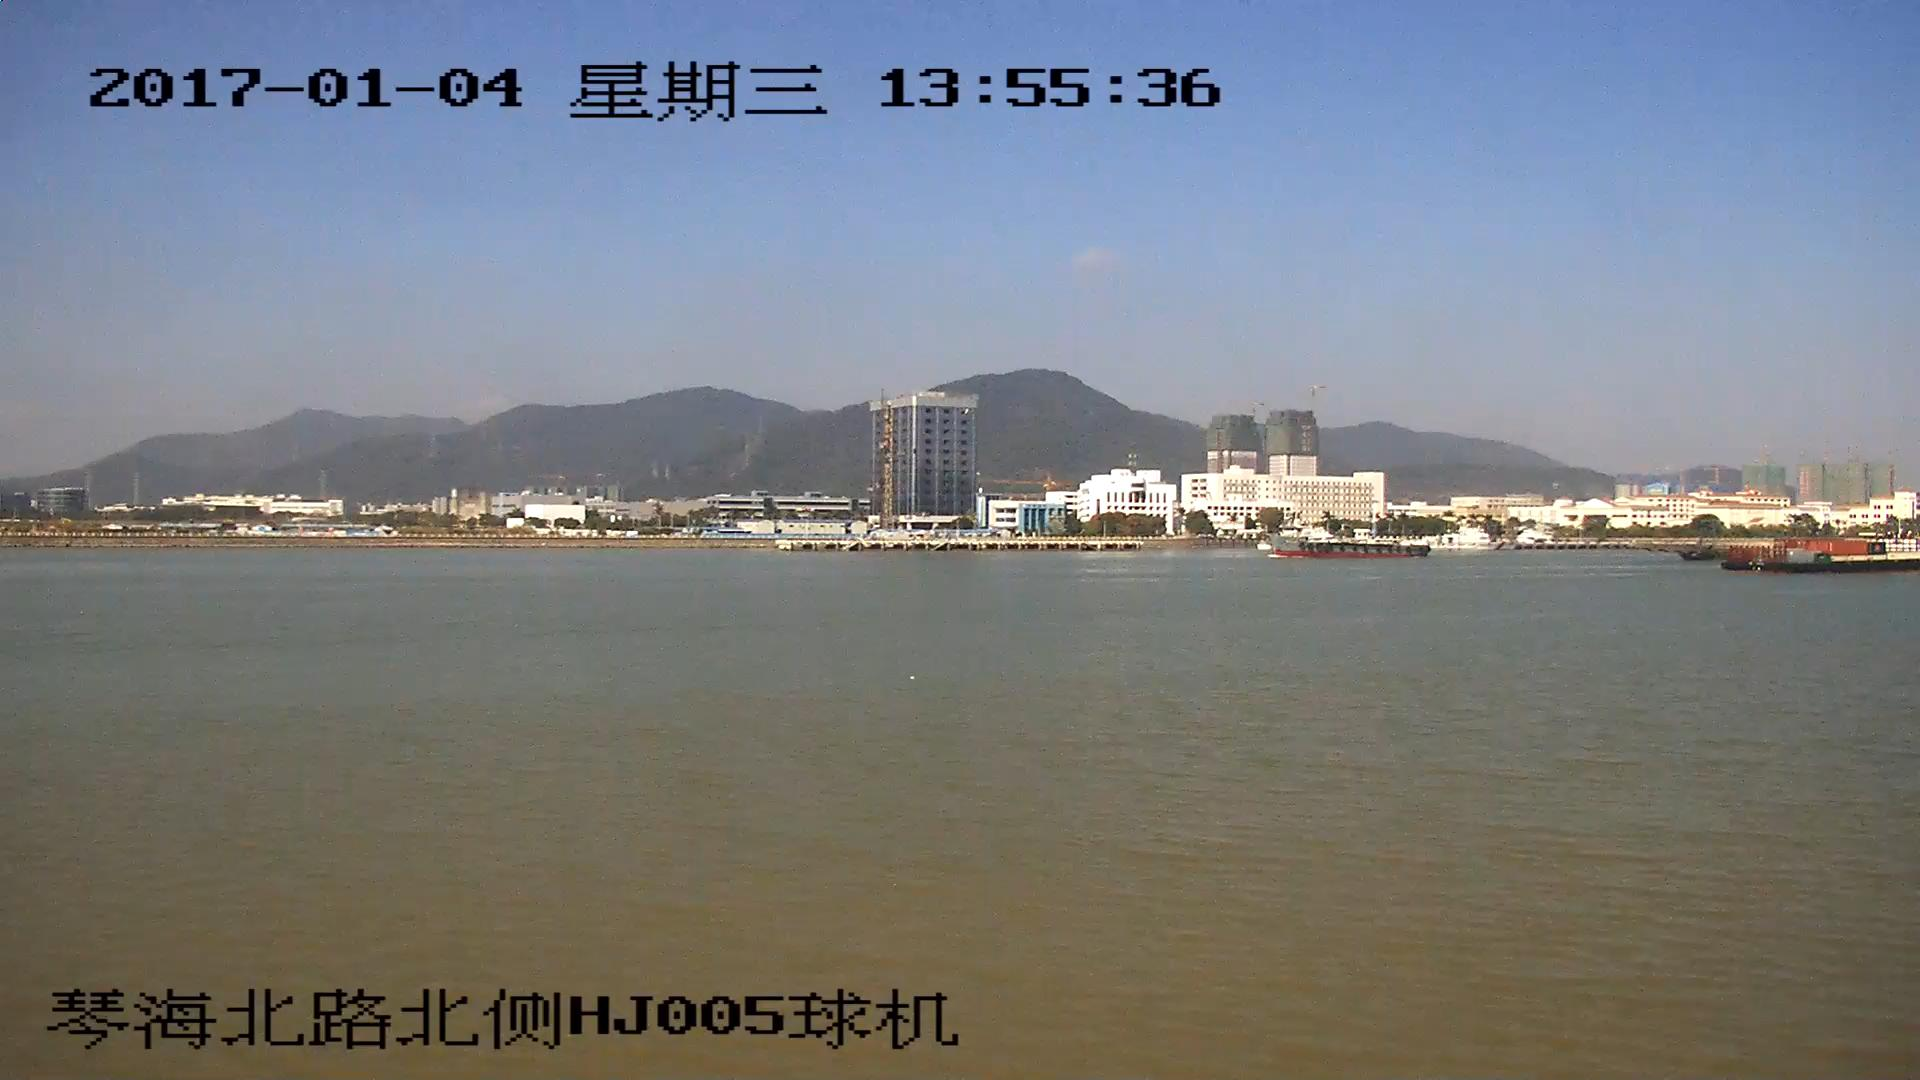container ship: (1733, 540, 1920, 575)
general cargo ship: (1272, 531, 1426, 558)
